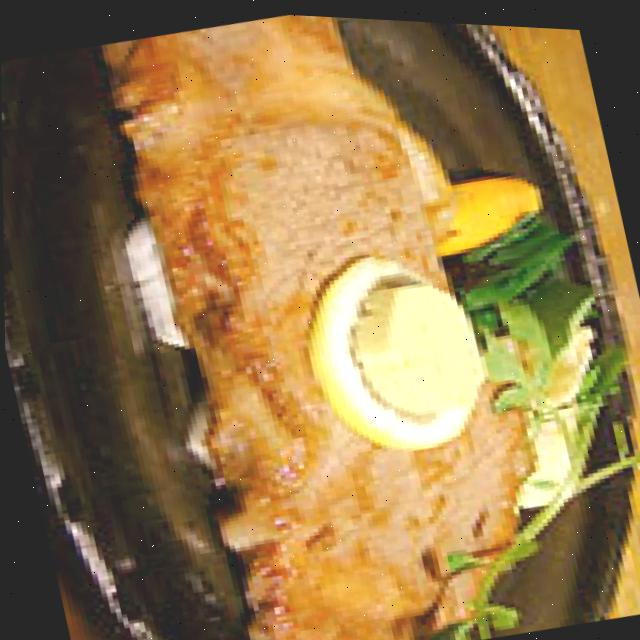牛肉菜式: (94, 4, 576, 640)
